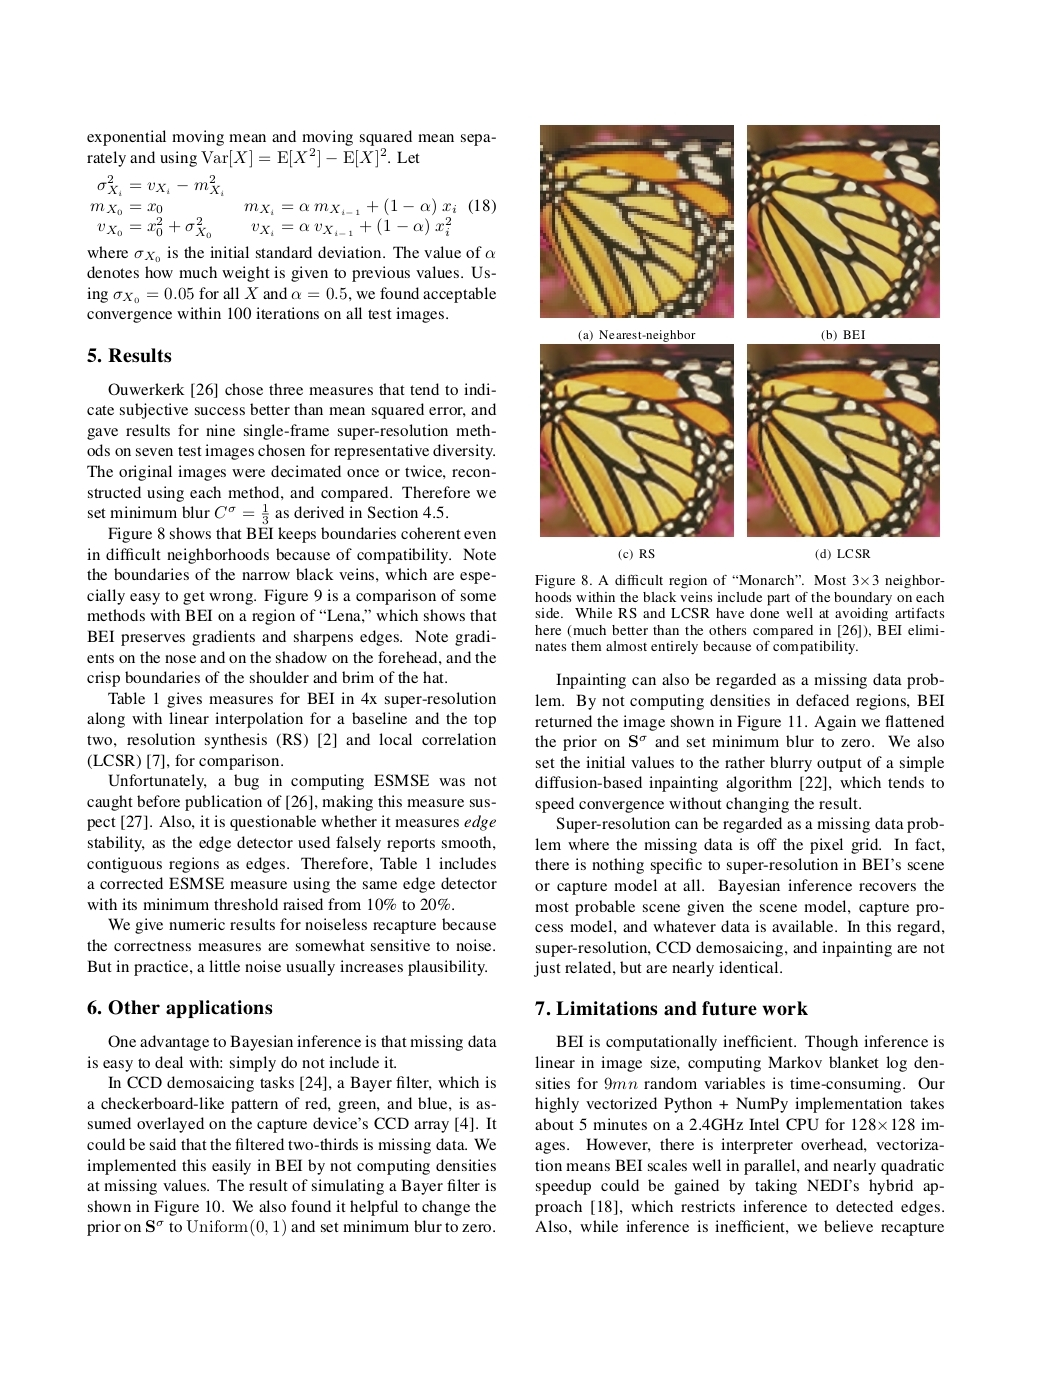figure: (541, 125, 733, 317), (747, 125, 940, 317), (541, 344, 733, 536), (747, 344, 940, 536)
formula: (90, 174, 495, 238)
